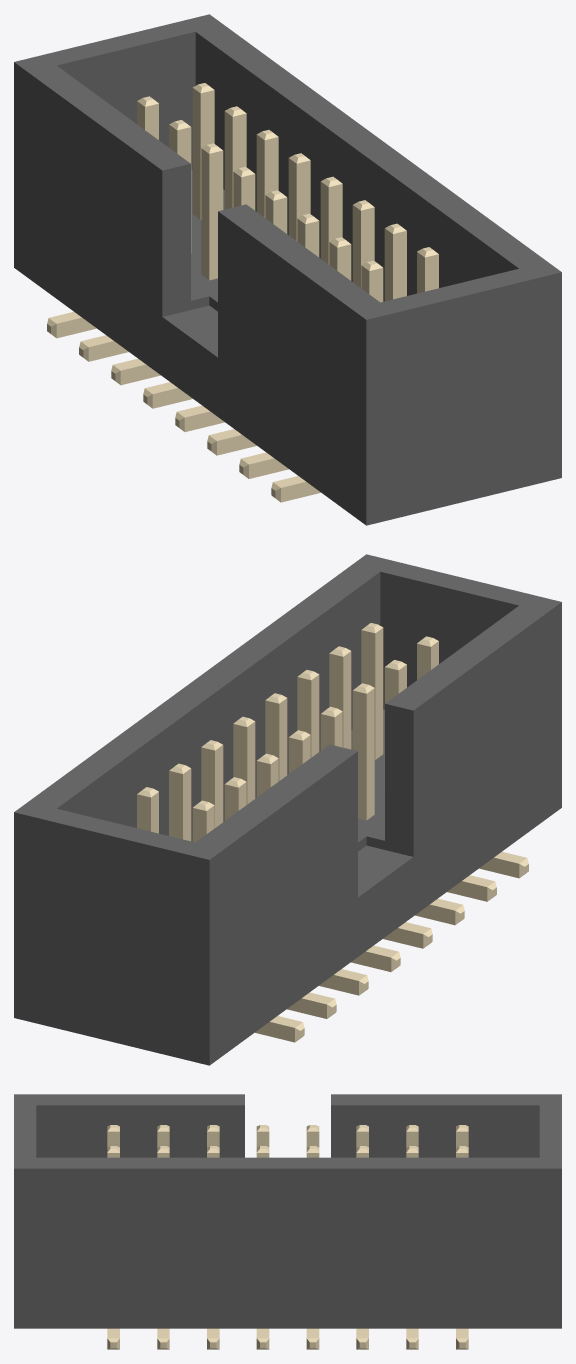
The model's file is kc-idc-header_2x08_p2.54mm_vertical_smd.glb.
The picture shows the model from 3 angles, top to bottom: view 1: azimuth 30°, elevation 25°; view 2: azimuth 150°, elevation 25°; view 3: azimuth 270°, elevation 25°; orthographic projection. The views are drawn at different scales.
Visible parts, largest first — view 1: 0.16666666666666666_0.16666666666666666_0.16666666666666666_, 0.8333333333333334_0.75_0.5_0.9; view 2: 0.16666666666666666_0.16666666666666666_0.16666666666666666_, 0.8333333333333334_0.75_0.5_0.9; view 3: 0.16666666666666666_0.16666666666666666_0.16666666666666666_, 0.8333333333333334_0.75_0.5_0.9.
Boxes of the visible parts, x1,y1,x2,y2 form: 0.16666666666666666_0.16666666666666666_0.16666666666666666_: [14, 14, 561, 525]; 0.8333333333333334_0.75_0.5_0.9: [47, 83, 438, 502]; 0.16666666666666666_0.16666666666666666_0.16666666666666666_: [14, 554, 561, 1065]; 0.8333333333333334_0.75_0.5_0.9: [137, 623, 528, 1042]; 0.16666666666666666_0.16666666666666666_0.16666666666666666_: [14, 1094, 561, 1328]; 0.8333333333333334_0.75_0.5_0.9: [107, 1125, 468, 1349].
Size of the model in its own units: 1.16 by 0.9639 by 2.79.
